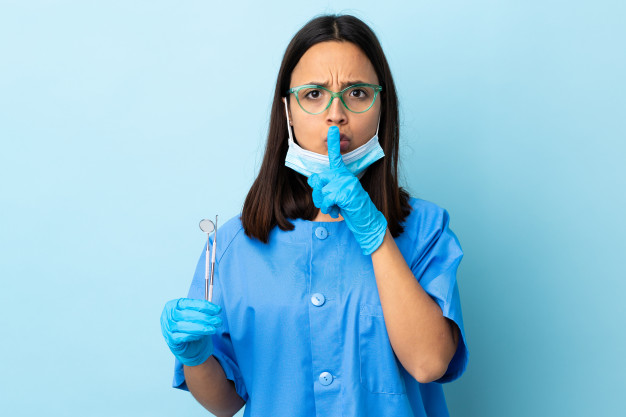mask_weared_incorrect: (276, 52, 388, 188)
